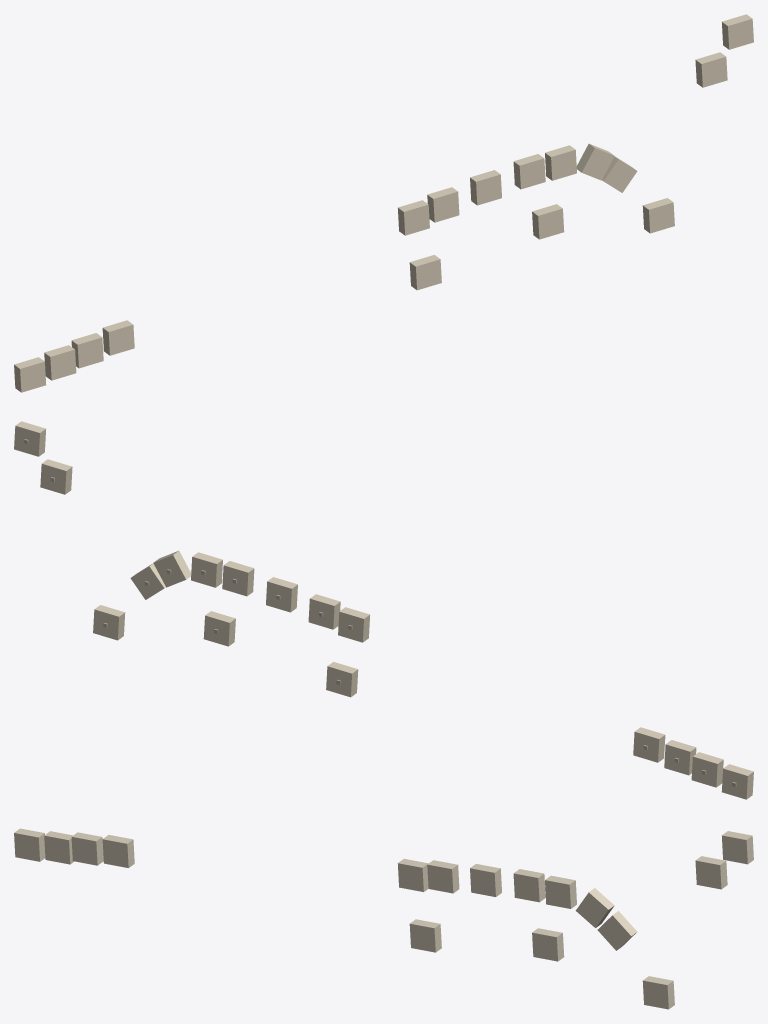
File: historic-palestine-16_37_3584_3319.glb
3 views of the same model, one above another, from view 1: azimuth 30°, elevation 25°; view 2: azimuth 150°, elevation 25°; view 3: azimuth 330°, elevation 25° (orthographic).
Parts seen in each view (by area): view 1: Building_.010, Building_, Building_.014, Building_.004, Building_.003, Building_.006, Building_.002, Building_.007, Building_.011, Building_.005, Building_.015, Building_.009 (+4 smaller); view 2: Building_.004, Building_.010, Building_, Building_.006, Building_.014, Building_.007, Building_.011, Building_.003, Building_.015, Building_.002, Building_.009, Building_.005 (+4 smaller); view 3: Building_.001, Building_.008, Building_.014, Building_.010, Building_.004, Building_.006, Building_, Building_.005, Building_.015, Building_.011, Building_.009, Building_.003 (+4 smaller).
Boxes of the visible parts, x1=… form: Building_.010: x1=513, y1=154, x2=545, y2=189; Building_: x1=102, y1=320, x2=134, y2=355; Building_.014: x1=695, y1=52, x2=727, y2=87; Building_.004: x1=409, y1=255, x2=441, y2=290; Building_.003: x1=14, y1=357, x2=46, y2=392; Building_.006: x1=642, y1=198, x2=674, y2=233; Building_.002: x1=44, y1=345, x2=76, y2=380; Building_.007: x1=398, y1=200, x2=429, y2=235; Building_.011: x1=545, y1=145, x2=576, y2=180; Building_.005: x1=532, y1=204, x2=564, y2=239; Building_.015: x1=722, y1=14, x2=753, y2=49; Building_.009: x1=470, y1=170, x2=501, y2=205; Building_.004: x1=326, y1=662, x2=358, y2=697; Building_.010: x1=222, y1=561, x2=254, y2=596; Building_: x1=633, y1=727, x2=665, y2=762; Building_.006: x1=93, y1=605, x2=125, y2=640; Building_.014: x1=40, y1=459, x2=72, y2=494; Building_.007: x1=338, y1=607, x2=369, y2=642; Building_.011: x1=191, y1=552, x2=222, y2=587; Building_.003: x1=721, y1=764, x2=753, y2=799; Building_.015: x1=14, y1=421, x2=45, y2=456; Building_.002: x1=691, y1=752, x2=723, y2=787; Building_.009: x1=266, y1=577, x2=297, y2=612; Building_.005: x1=203, y1=611, x2=235, y2=646; Building_.001: x1=71, y1=832, x2=103, y2=865; Building_.008: x1=427, y1=860, x2=459, y2=893; Building_.014: x1=695, y1=856, x2=727, y2=889; Building_.010: x1=513, y1=869, x2=545, y2=902; Building_.004: x1=409, y1=919, x2=441, y2=952; Building_.006: x1=642, y1=976, x2=674, y2=1009; Building_: x1=102, y1=835, x2=134, y2=867; Building_.005: x1=532, y1=928, x2=564, y2=961; Building_.015: x1=721, y1=831, x2=753, y2=864; Building_.011: x1=545, y1=875, x2=576, y2=908; Building_.009: x1=470, y1=864, x2=501, y2=896; Building_.003: x1=14, y1=828, x2=45, y2=861.
Size of the model in its own units: 520 by 132 by 8.7.
